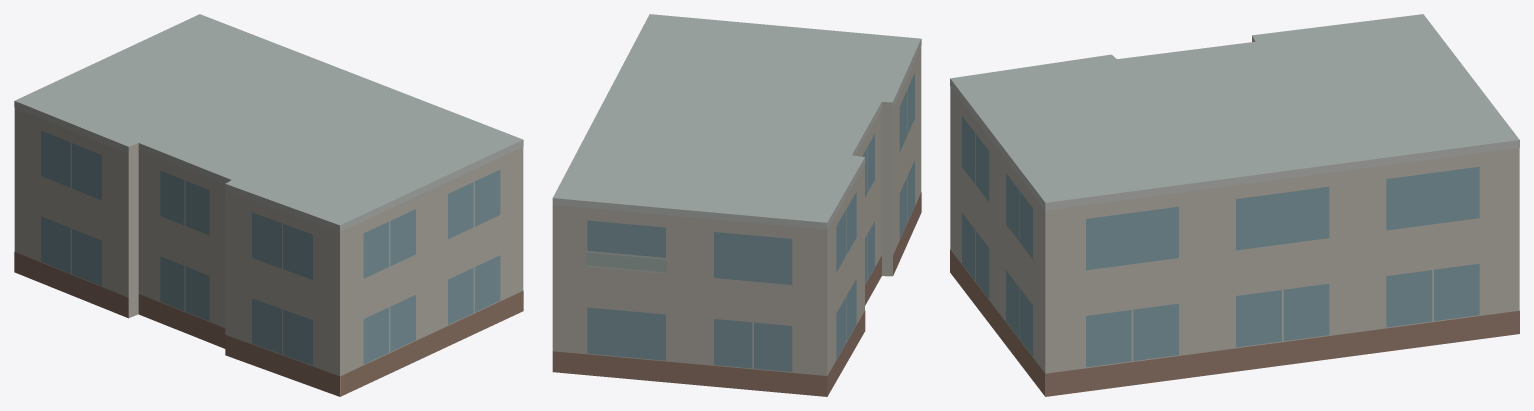
Rendered from survey-upis-32655363.glb.
The picture shows the model from 3 angles, left to right: view 1: azimuth 30°, elevation 25°; view 2: azimuth 150°, elevation 25°; view 3: azimuth 270°, elevation 25°; orthographic projection. The views are drawn at different scales.
Visible parts, largest first — view 1: survey-upis-32655363.tmp; view 2: survey-upis-32655363.tmp; view 3: survey-upis-32655363.tmp.
Part boxes in pixels (left/top/right/bottom): survey-upis-32655363.tmp: left=14, top=14, right=523, bottom=396; survey-upis-32655363.tmp: left=552, top=14, right=921, bottom=396; survey-upis-32655363.tmp: left=950, top=14, right=1519, bottom=396.
Bounding box in the file's own units: 12.75 × 6.1 × 16.24.
